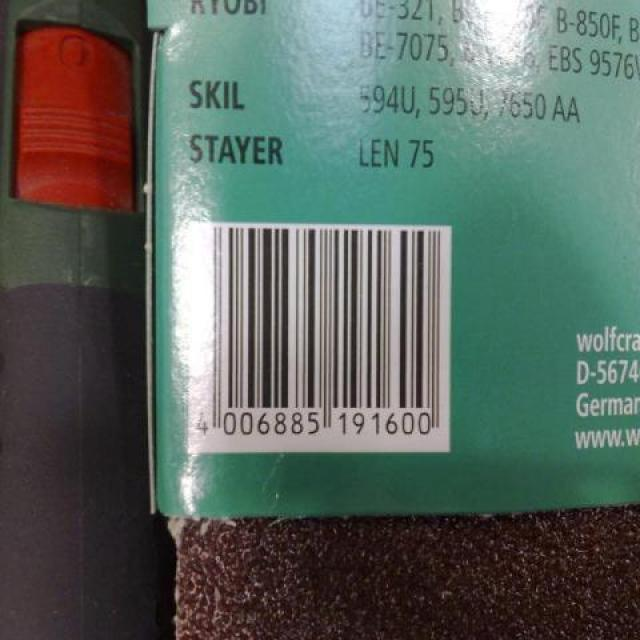Barcode: (189, 221, 450, 452)
